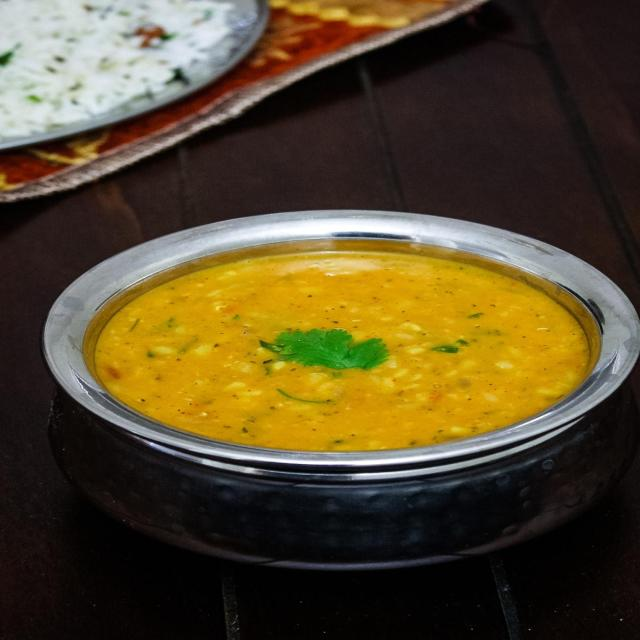dal: (100, 249, 589, 447)
